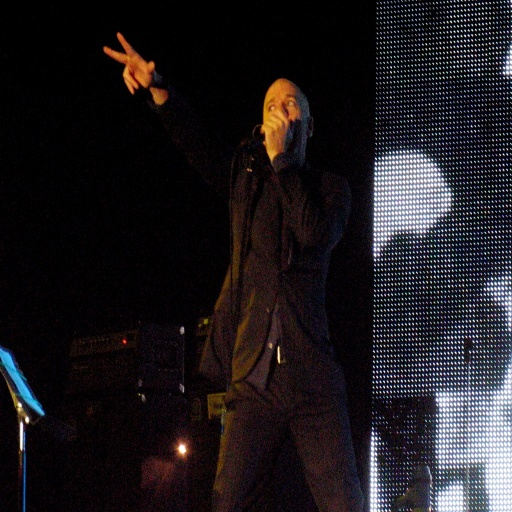hand: (102, 26, 165, 96), (257, 108, 289, 162)
